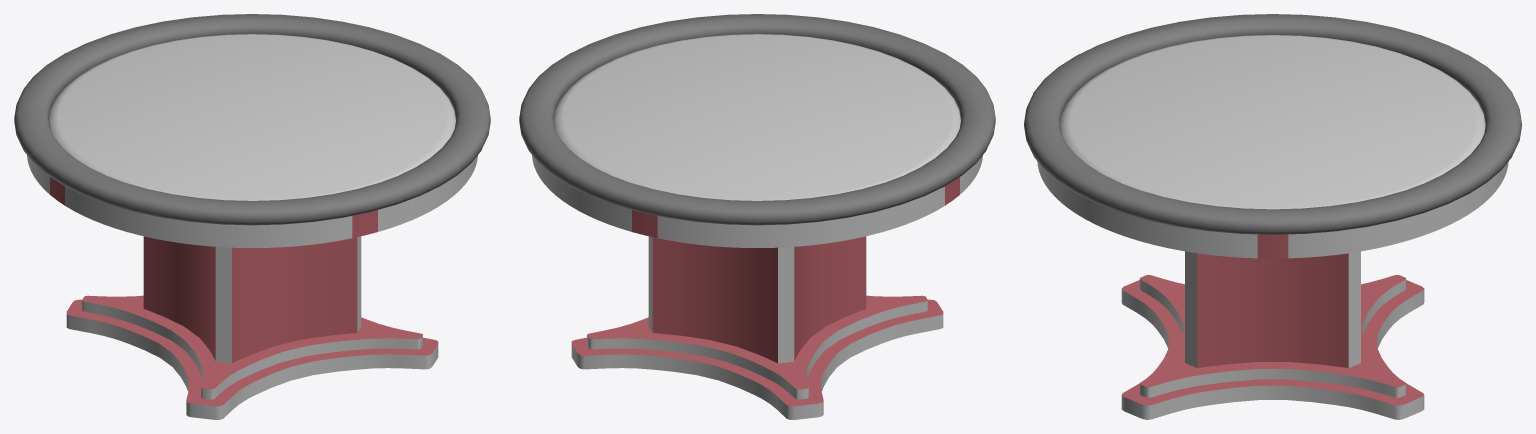
Rendered from Platform2.fbx.
The picture shows the model from 3 angles, left to right: view 1: azimuth 30°, elevation 25°; view 2: azimuth 150°, elevation 25°; view 3: azimuth 270°, elevation 25°; orthographic projection. The views are drawn at different scales.
Visible parts, largest first — view 1: Platform2; view 2: Platform2; view 3: Platform2.
Part boxes in pixels (left/top/right/bottom): Platform2: left=14, top=14, right=490, bottom=419; Platform2: left=519, top=14, right=995, bottom=419; Platform2: left=1024, top=14, right=1521, bottom=419.
Bounding box in the file's own units: 6.6 × 3.51 × 6.6.
